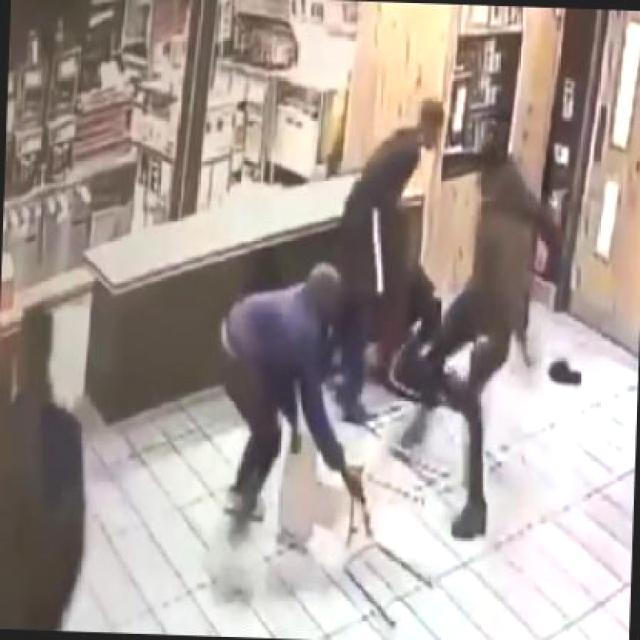fight: (336, 94, 454, 342)
